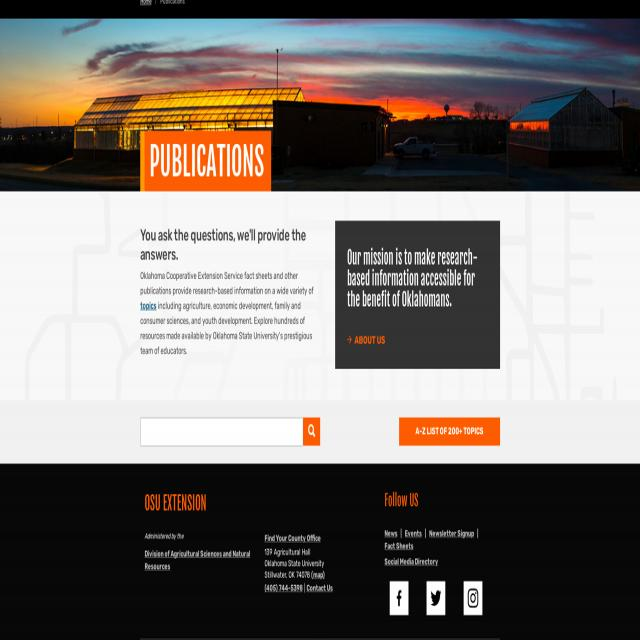button: (399, 418, 500, 446), (390, 581, 408, 615), (427, 581, 445, 615), (464, 581, 482, 615), (304, 417, 320, 447)
field: (140, 417, 304, 446)
